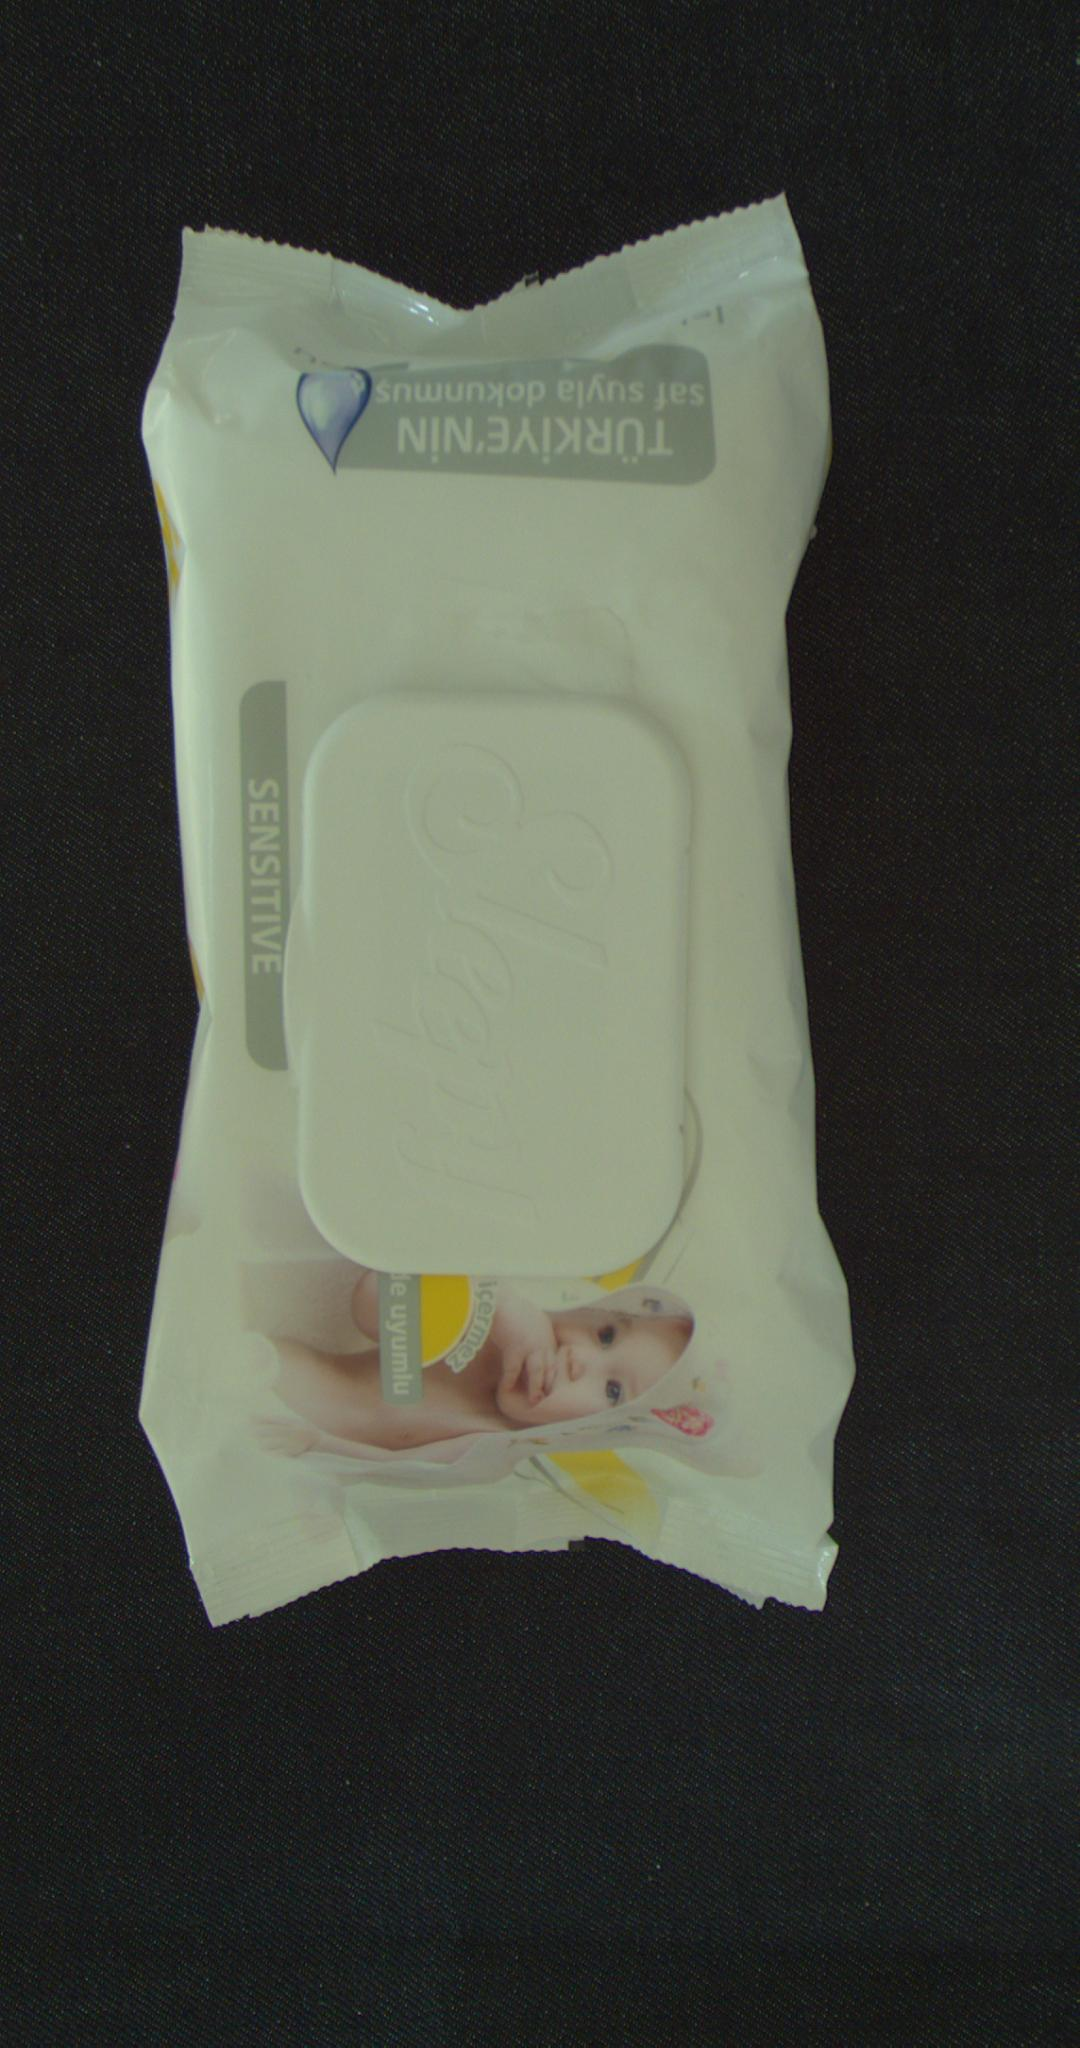kapak: (285, 692, 698, 1284)
